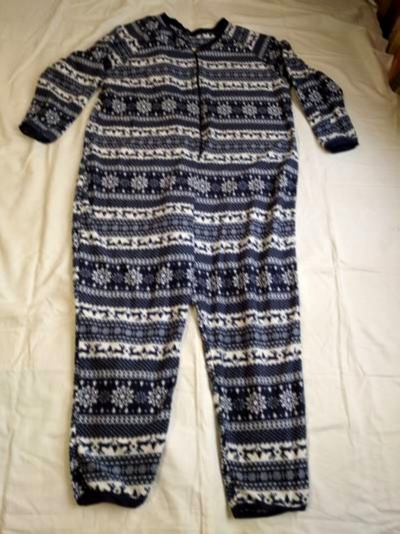Body: (11, 15, 376, 517)
